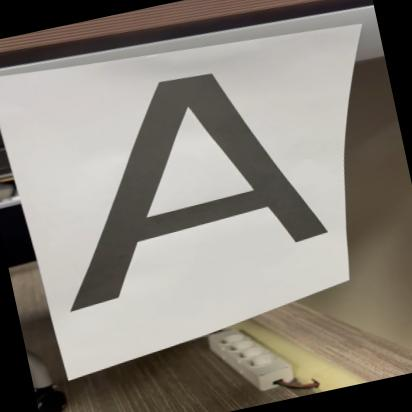seat: (16, 47, 343, 318)
